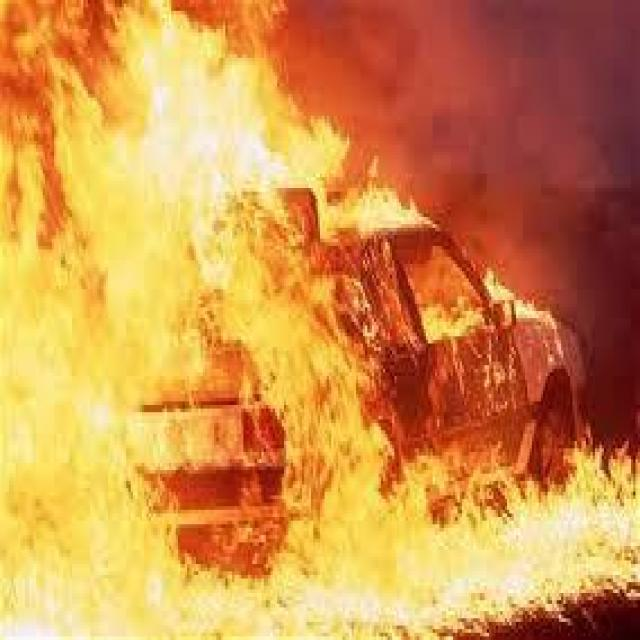fire: (3, 35, 309, 640), (337, 444, 640, 623)
smoke: (339, 29, 625, 263)
